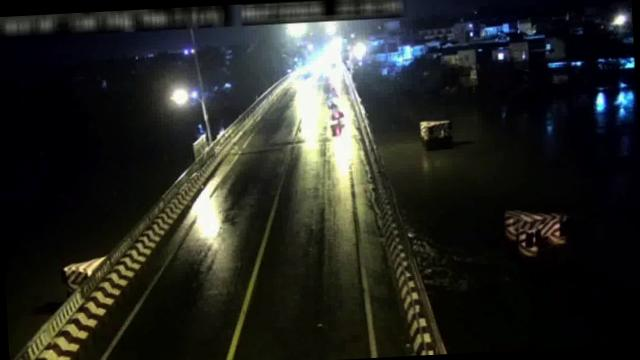Bike: (327, 98, 344, 124)
